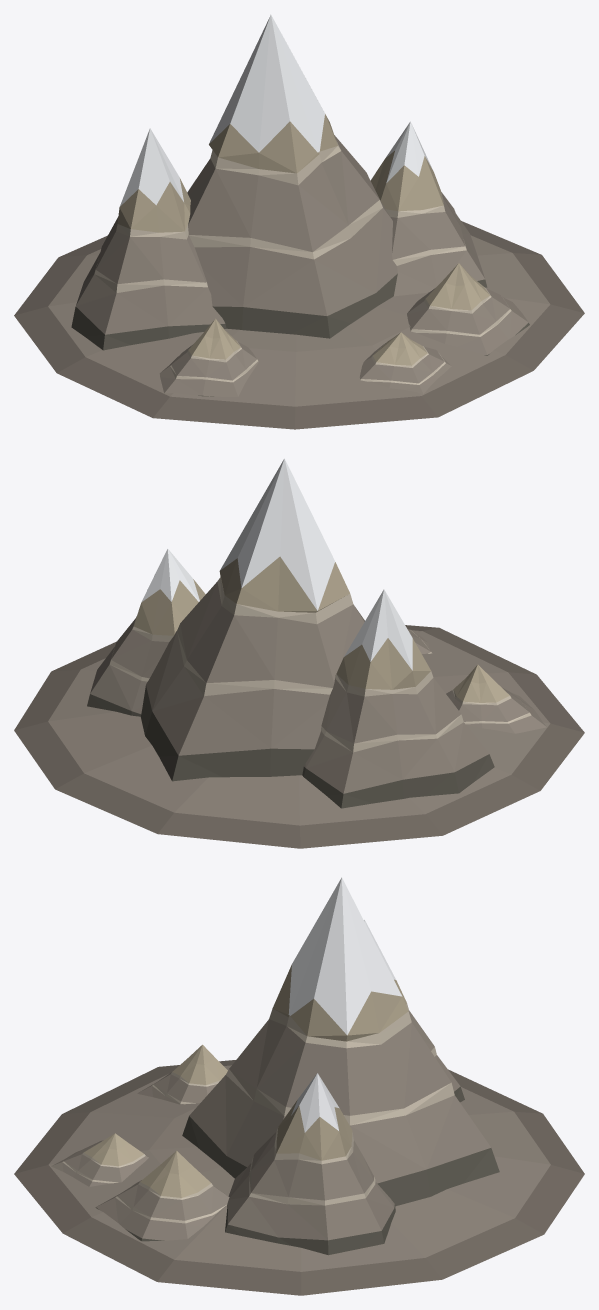
The model's file is mountain_snow.glb.
3 views of the same model, one above another, from view 1: azimuth 30°, elevation 25°; view 2: azimuth 150°, elevation 25°; view 3: azimuth 270°, elevation 25° (orthographic). The views are drawn at different scales.
Visible parts, largest first — view 1: mountain_snow; view 2: mountain_snow; view 3: mountain_snow.
Part boxes in pixels (bbox=[...]): mountain_snow: bbox=[14, 15, 584, 429]; mountain_snow: bbox=[14, 458, 584, 848]; mountain_snow: bbox=[14, 877, 584, 1295].
Bounding box in the file's own units: 1.77 × 1 × 1.76.
